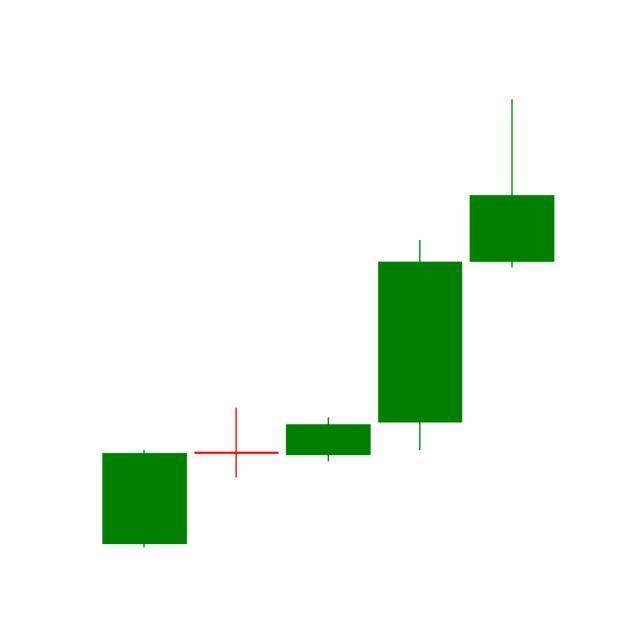Three Outside Up-Down: (190, 238, 467, 481)
